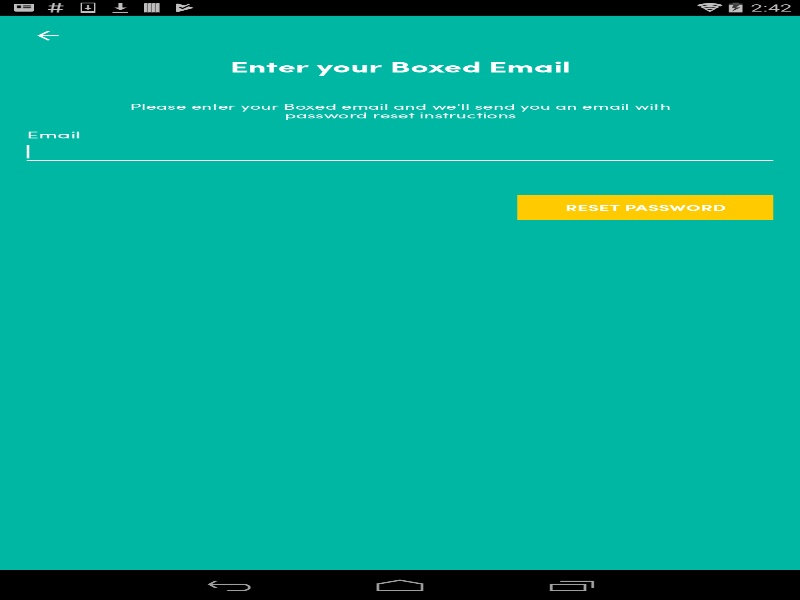Button: (512, 192, 778, 222), (10, 15, 85, 55)
Input: (21, 138, 778, 165)
